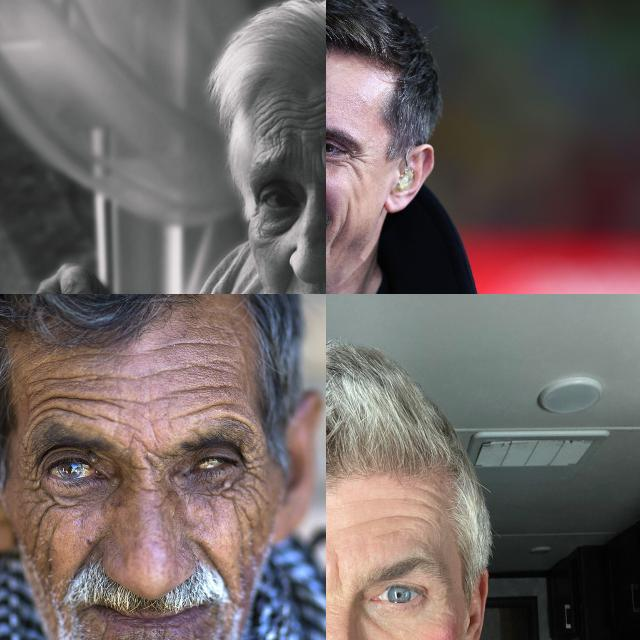crows_feet: (17, 463, 51, 513), (240, 450, 270, 502), (348, 152, 368, 174)
forehead: (364, 494, 440, 542), (152, 336, 226, 360), (30, 388, 88, 418), (182, 399, 240, 423), (174, 376, 232, 399), (95, 392, 125, 428), (114, 368, 164, 388), (258, 106, 278, 146), (33, 352, 85, 366), (284, 98, 308, 128), (314, 90, 326, 127)
frown_line: (134, 454, 164, 491), (326, 552, 346, 596), (293, 134, 307, 164), (315, 144, 326, 168)
gummy_smile: (74, 535, 100, 575), (195, 536, 223, 570), (274, 280, 292, 294)
masseter: (228, 502, 260, 538), (27, 522, 54, 556), (334, 207, 352, 251)
